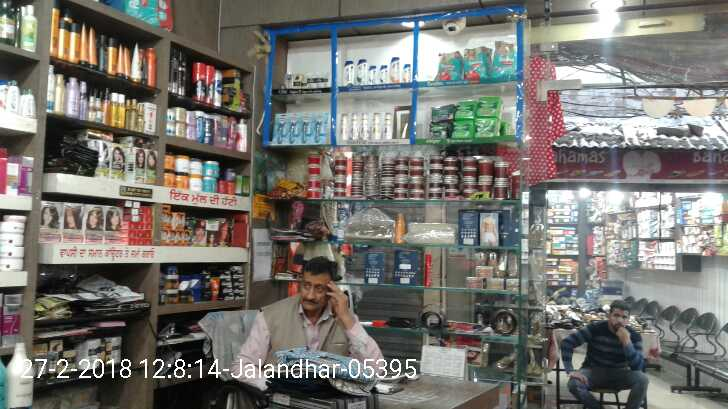gillete: (192, 64, 205, 99), (207, 68, 215, 103)
venus: (312, 112, 328, 143), (287, 112, 300, 146), (300, 112, 312, 143), (273, 113, 285, 144)
